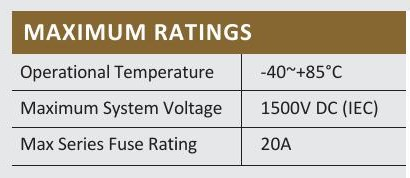table: (2, 47, 410, 171)
table column: (15, 53, 239, 166), (243, 53, 404, 167)
table row: (13, 129, 406, 164), (12, 55, 404, 90), (12, 92, 405, 126)
